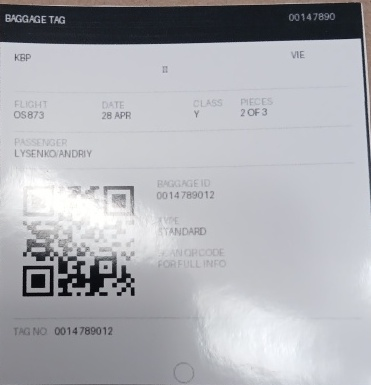LPN_bottom: (52, 322, 116, 339)
LPN_right: (151, 188, 221, 201)
